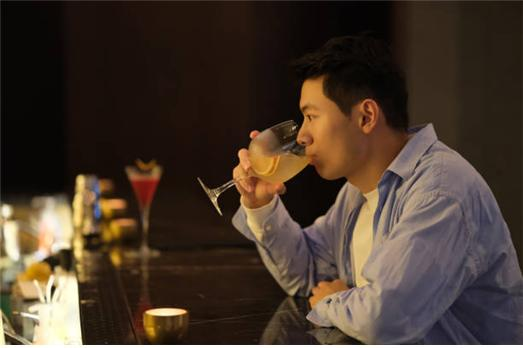alcohol: (70, 174, 139, 348), (197, 119, 315, 215), (125, 165, 162, 259)
